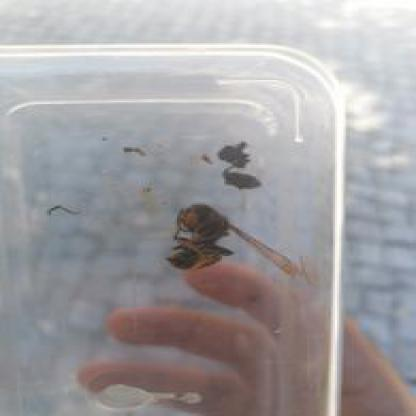Asian Hornet: (163, 196, 253, 282)
